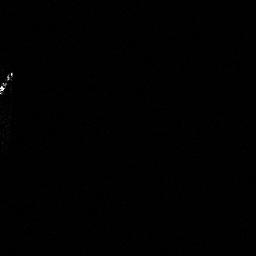ship: (1, 68, 15, 99)
